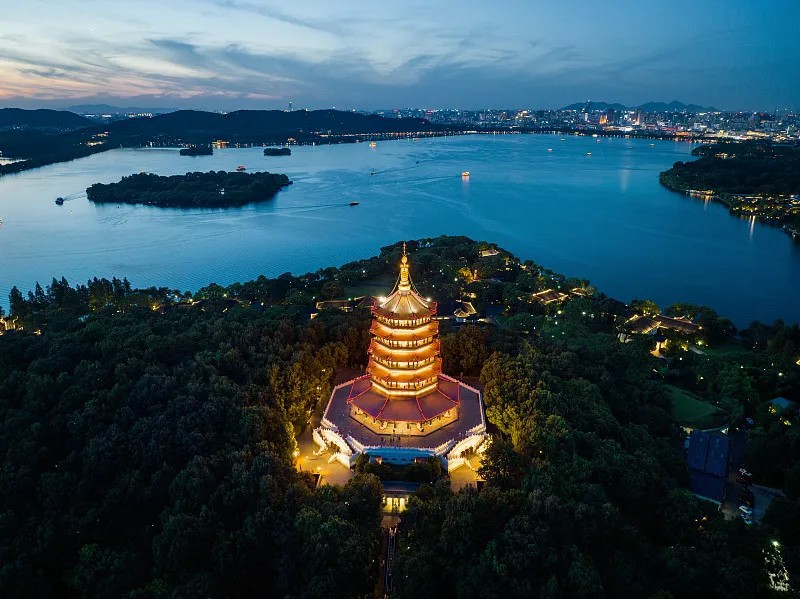Leifeng: (346, 241, 458, 433)
